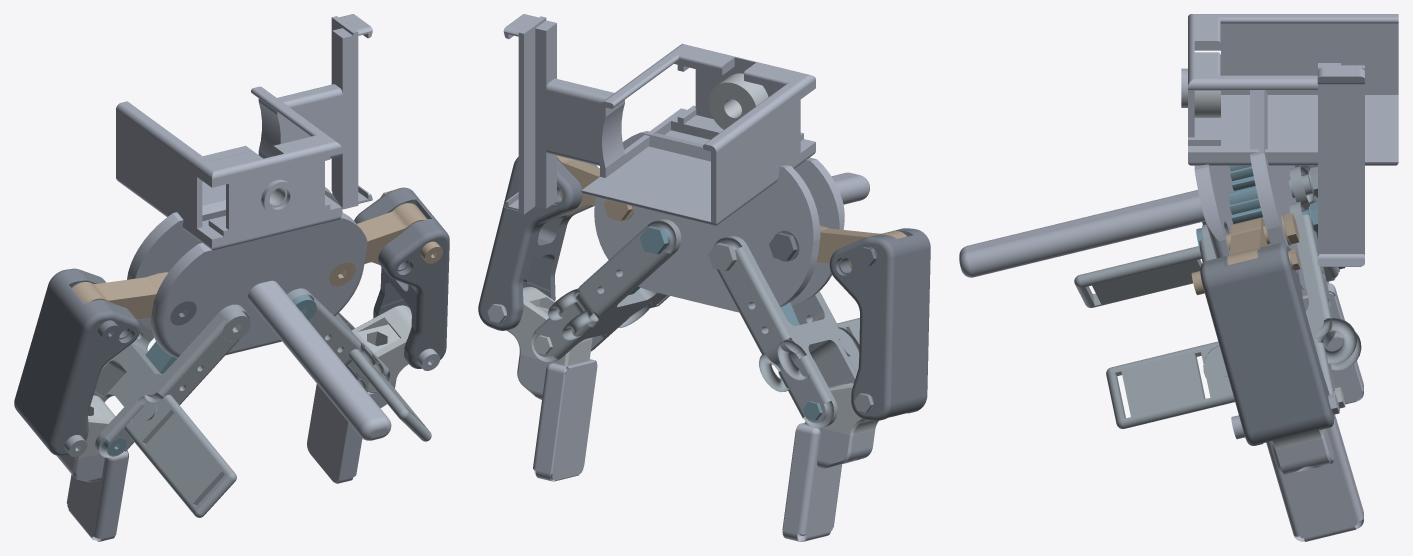
File: robotiq-assembled-trimmed-links.glb
The picture shows the model from 3 angles, left to right: view 1: azimuth 30°, elevation 25°; view 2: azimuth 150°, elevation 25°; view 3: azimuth 270°, elevation 25°; orthographic projection. The views are drawn at different scales.
Visible parts, largest first — view 1: handheld-body, right-proximal, right-bar, left-bar, right-pad, left-proximal, left-pad, left-distal, right-frame, left-frame, right-distal, right-inner-chassis-pivot (+1 smaller); view 2: handheld-body, right-bar, right-proximal, left-bar, left-proximal, left-pad, right-pad, left-distal, camera-support, right-distal, right-frame, left-frame (+3 smaller); view 3: handheld-body, left-bar, left-proximal, left-pad, right-proximal, right-pad, left-frame, left-drive, camera-support, left-outer-chassis-pivot, right-drive, left-distal.
Part boxes in pixels (<box>): handheld-body: <box>116,14,391,440</box>; right-proximal: <box>93,304,249,517</box>; right-bar: <box>14,268,140,455</box>; left-bar: <box>354,187,449,368</box>; right-pad: <box>57,450,128,541</box>; left-proximal: <box>287,288,431,441</box>; left-pad: <box>307,380,396,483</box>; left-distal: <box>351,305,411,382</box>; right-frame: <box>72,272,168,319</box>; left-frame: <box>357,203,427,264</box>; right-distal: <box>74,395,115,459</box>; right-inner-chassis-pivot: <box>223,310,250,341</box>; handheld-body: <box>503,14,869,312</box>; right-bar: <box>829,228,930,420</box>; right-proximal: <box>713,236,859,428</box>; left-bar: <box>478,157,597,330</box>; left-proximal: <box>531,219,681,362</box>; left-pad: <box>517,354,597,481</box>; right-pad: <box>782,422,875,541</box>; left-distal: <box>506,286,592,365</box>; camera-support: <box>708,73,768,129</box>; right-distal: <box>805,382,878,435</box>; right-frame: <box>816,225,906,268</box>; left-frame: <box>557,155,599,216</box>; handheld-body: <box>959,14,1398,290</box>; left-bar: <box>1200,243,1334,445</box>; left-proximal: <box>1106,201,1361,428</box>; left-pad: <box>1266,415,1363,541</box>; right-proximal: <box>1074,166,1339,307</box>; right-pad: <box>1302,281,1363,404</box>; left-frame: <box>1227,217,1269,265</box>; left-drive: <box>1228,186,1270,245</box>; camera-support: <box>1194,90,1220,117</box>; left-outer-chassis-pivot: <box>1225,213,1299,250</box>; right-drive: <box>1229,165,1255,191</box>; left-distal: <box>1270,429,1324,449</box>.
Size of the model in its own units: 0.1528 by 0.1616 by 0.1334.
